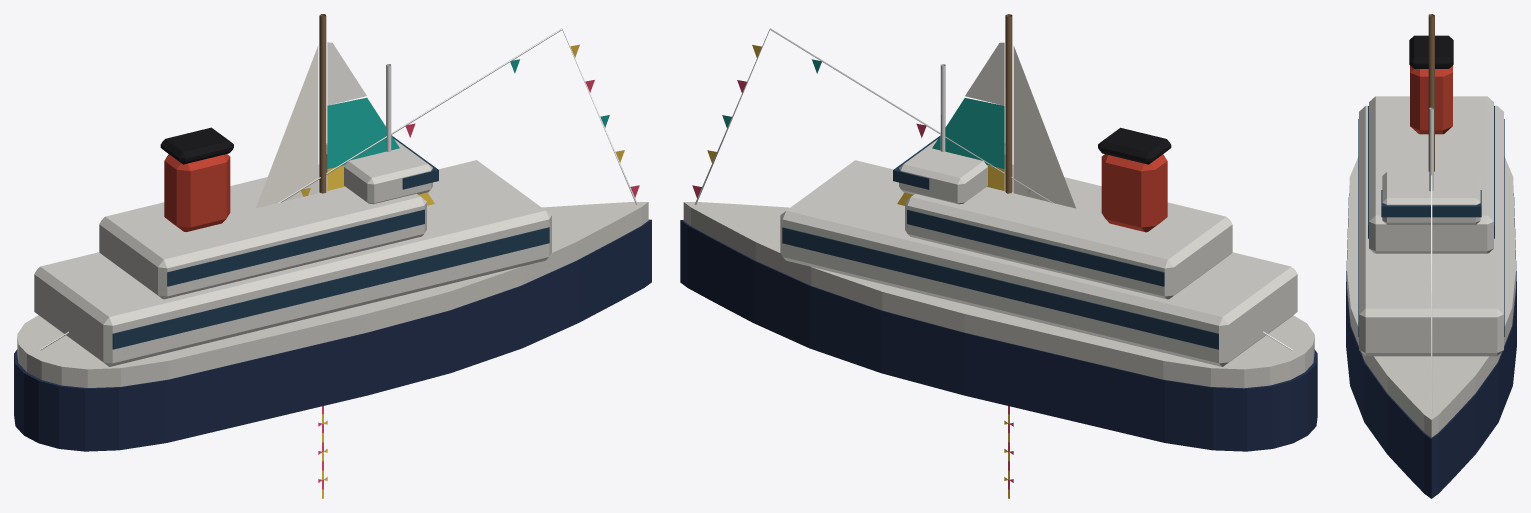
File: critters.glb
The picture shows the model from 3 angles, left to right: view 1: azimuth 30°, elevation 25°; view 2: azimuth 150°, elevation 25°; view 3: azimuth 270°, elevation 25°; orthographic projection. The views are drawn at different scales.
Parts seen in each view (by area): view 1: ev_ferry, ev_sail; view 2: ev_ferry, ev_sail; view 3: ev_ferry, ev_sail.
Part boxes in pixels (x1,y1,x2,y2): ev_ferry: (14, 28, 651, 451); ev_sail: (255, 14, 434, 208); ev_ferry: (680, 28, 1317, 451); ev_sail: (897, 14, 1075, 208); ev_ferry: (1346, 35, 1516, 498); ev_sail: (1428, 14, 1434, 171).
Size of the model in its own units: 21 by 15.45 by 5.2.
